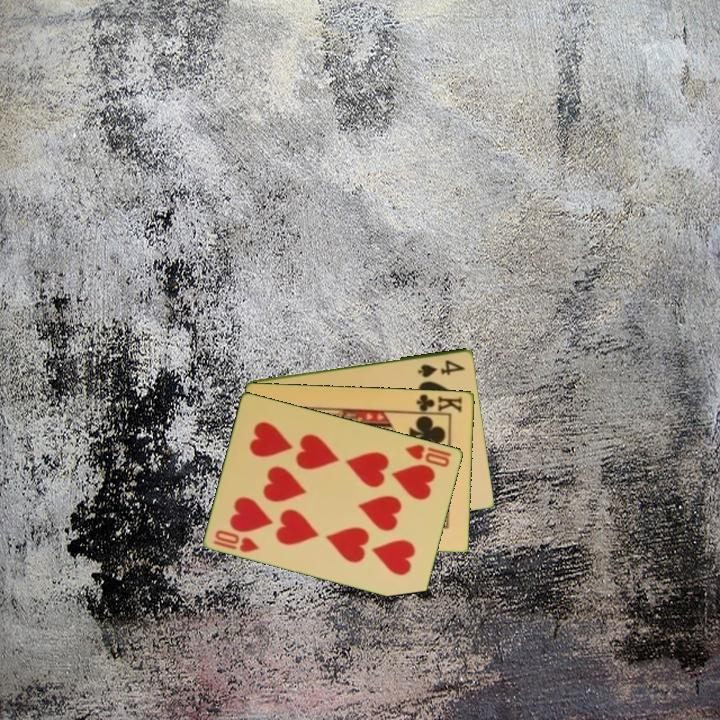10h: (401, 440, 455, 470), (210, 526, 263, 555)
4s: (414, 356, 468, 380)
Kc: (411, 390, 465, 416)
